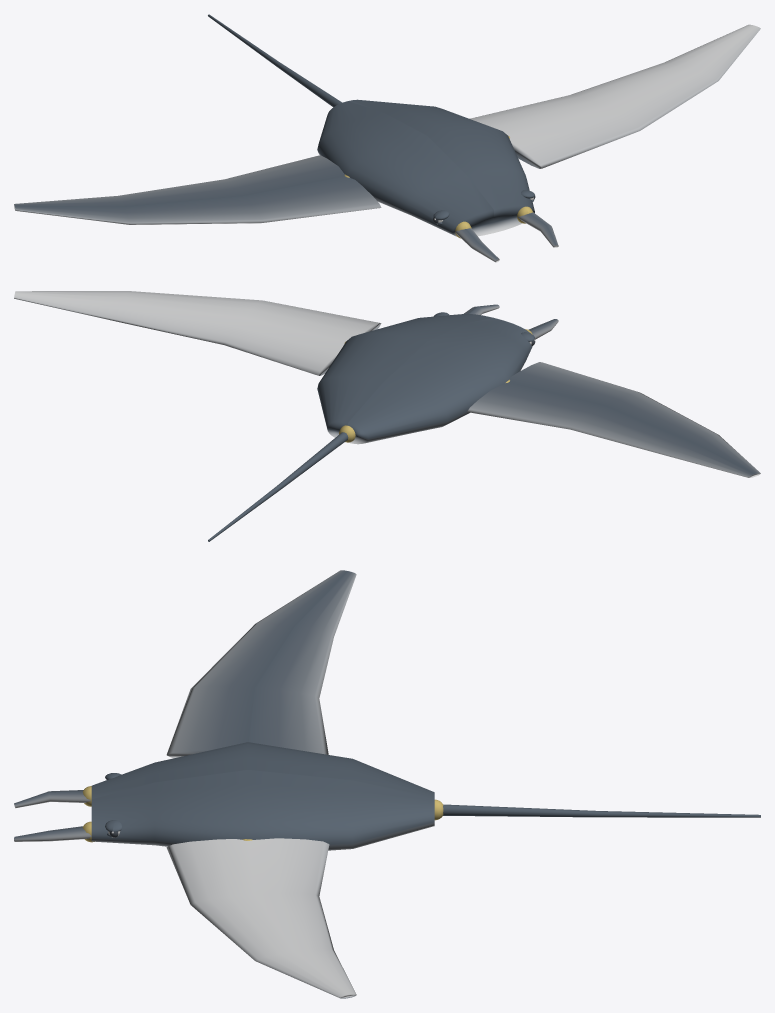
The model's file is manta.glb.
3 renders of one model, top to bottom at view 1: azimuth 30°, elevation 25°; view 2: azimuth 150°, elevation 25°; view 3: azimuth 270°, elevation 25°, orthographic. The views are drawn at different scales.
Visible parts, largest first — view 1: DiscBody, Wing_R, Wing_L, Tail, Cephalic_R, Cephalic_L; view 2: DiscBody, Wing_R, Wing_L, Tail; view 3: DiscBody, Wing_L, Wing_R, Tail, Cephalic_R, Cephalic_L.
Boxes of the visible parts, x1,y1,x2,y2 form: DiscBody: [317, 99, 535, 236]; Wing_R: [469, 24, 760, 168]; Wing_L: [14, 155, 381, 224]; Tail: [208, 14, 342, 107]; Cephalic_R: [517, 206, 558, 247]; Cephalic_L: [455, 221, 499, 262]; DiscBody: [317, 312, 535, 444]; Wing_R: [14, 291, 381, 375]; Wing_L: [467, 362, 760, 477]; Tail: [208, 425, 355, 541]; DiscBody: [91, 742, 434, 850]; Wing_L: [166, 570, 356, 758]; Wing_R: [166, 838, 356, 998]; Tail: [434, 799, 760, 820]; Cephalic_R: [14, 821, 94, 842]; Cephalic_L: [14, 786, 91, 808].
Bounding box in the file's own units: 4.33 × 0.27 × 3.2.
